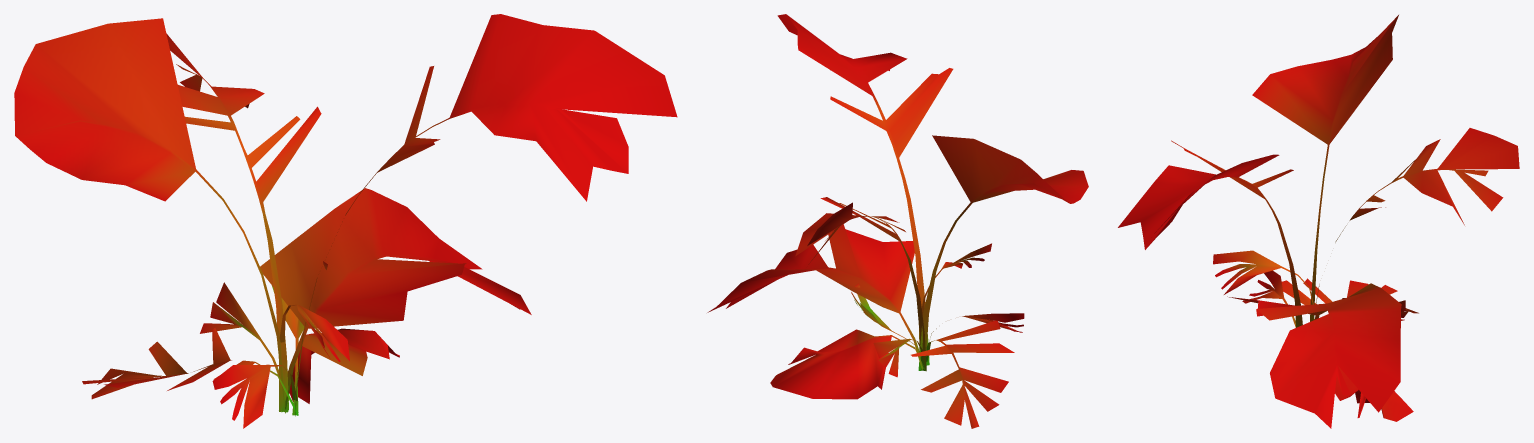
The model's file is Areca Palm_LOD2_Var4_shFjC.fbx.
The picture shows the model from 3 angles, left to right: view 1: azimuth 30°, elevation 25°; view 2: azimuth 150°, elevation 25°; view 3: azimuth 270°, elevation 25°; orthographic projection. The views are drawn at different scales.
Parts seen in each view (by area): view 1: _0929_Var4_LOD2; view 2: _0929_Var4_LOD2; view 3: _0929_Var4_LOD2.
Part boxes in pixels (box(x1,y1,x2,y2)): _0929_Var4_LOD2: box(14, 14, 677, 428); _0929_Var4_LOD2: box(707, 14, 1088, 428); _0929_Var4_LOD2: box(1118, 15, 1519, 428).
Bounding box in the file's own units: 199 × 149 × 178.
